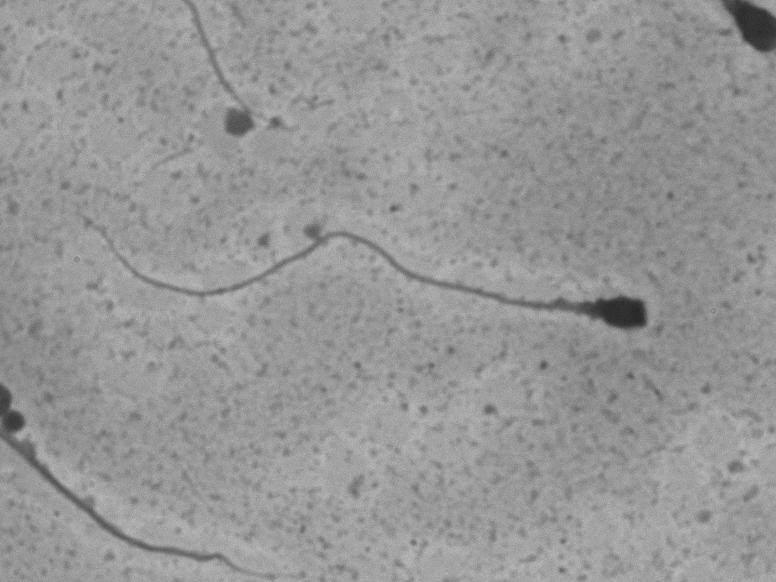Abnormal: (92, 196, 682, 379)
